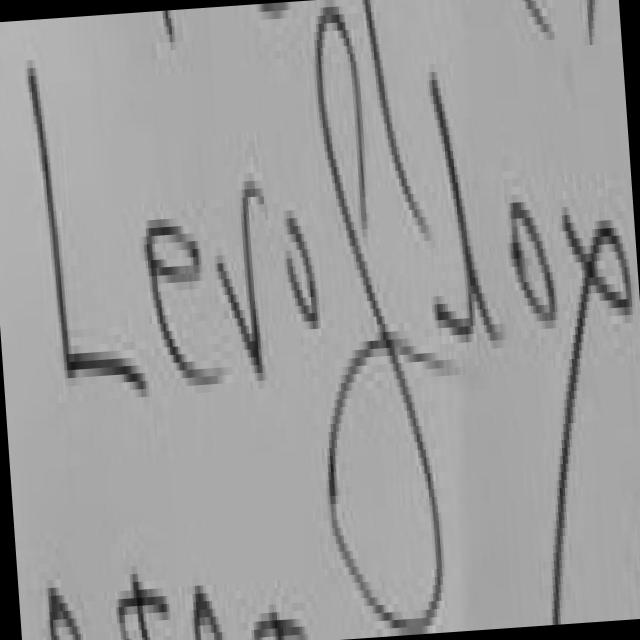L: (15, 34, 158, 443)
e: (134, 191, 228, 420)
f: (304, 0, 447, 630)
l: (412, 41, 511, 393)
o: (497, 144, 569, 392), (272, 192, 328, 350)
v: (208, 172, 278, 398)
x: (554, 157, 640, 387)
